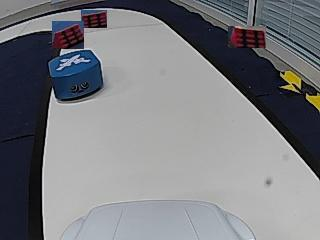spy: (57, 54, 90, 69)
